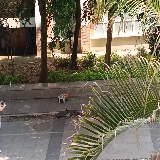fire: (63, 94, 68, 98)
